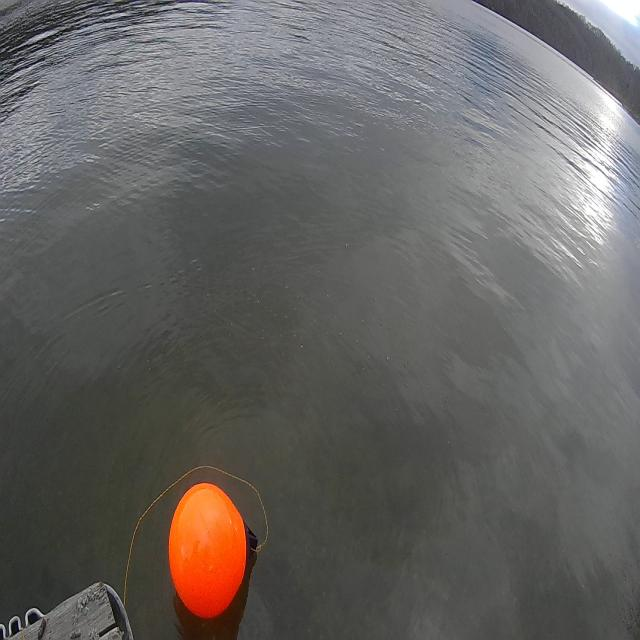Buoy: (154, 459, 259, 618)
